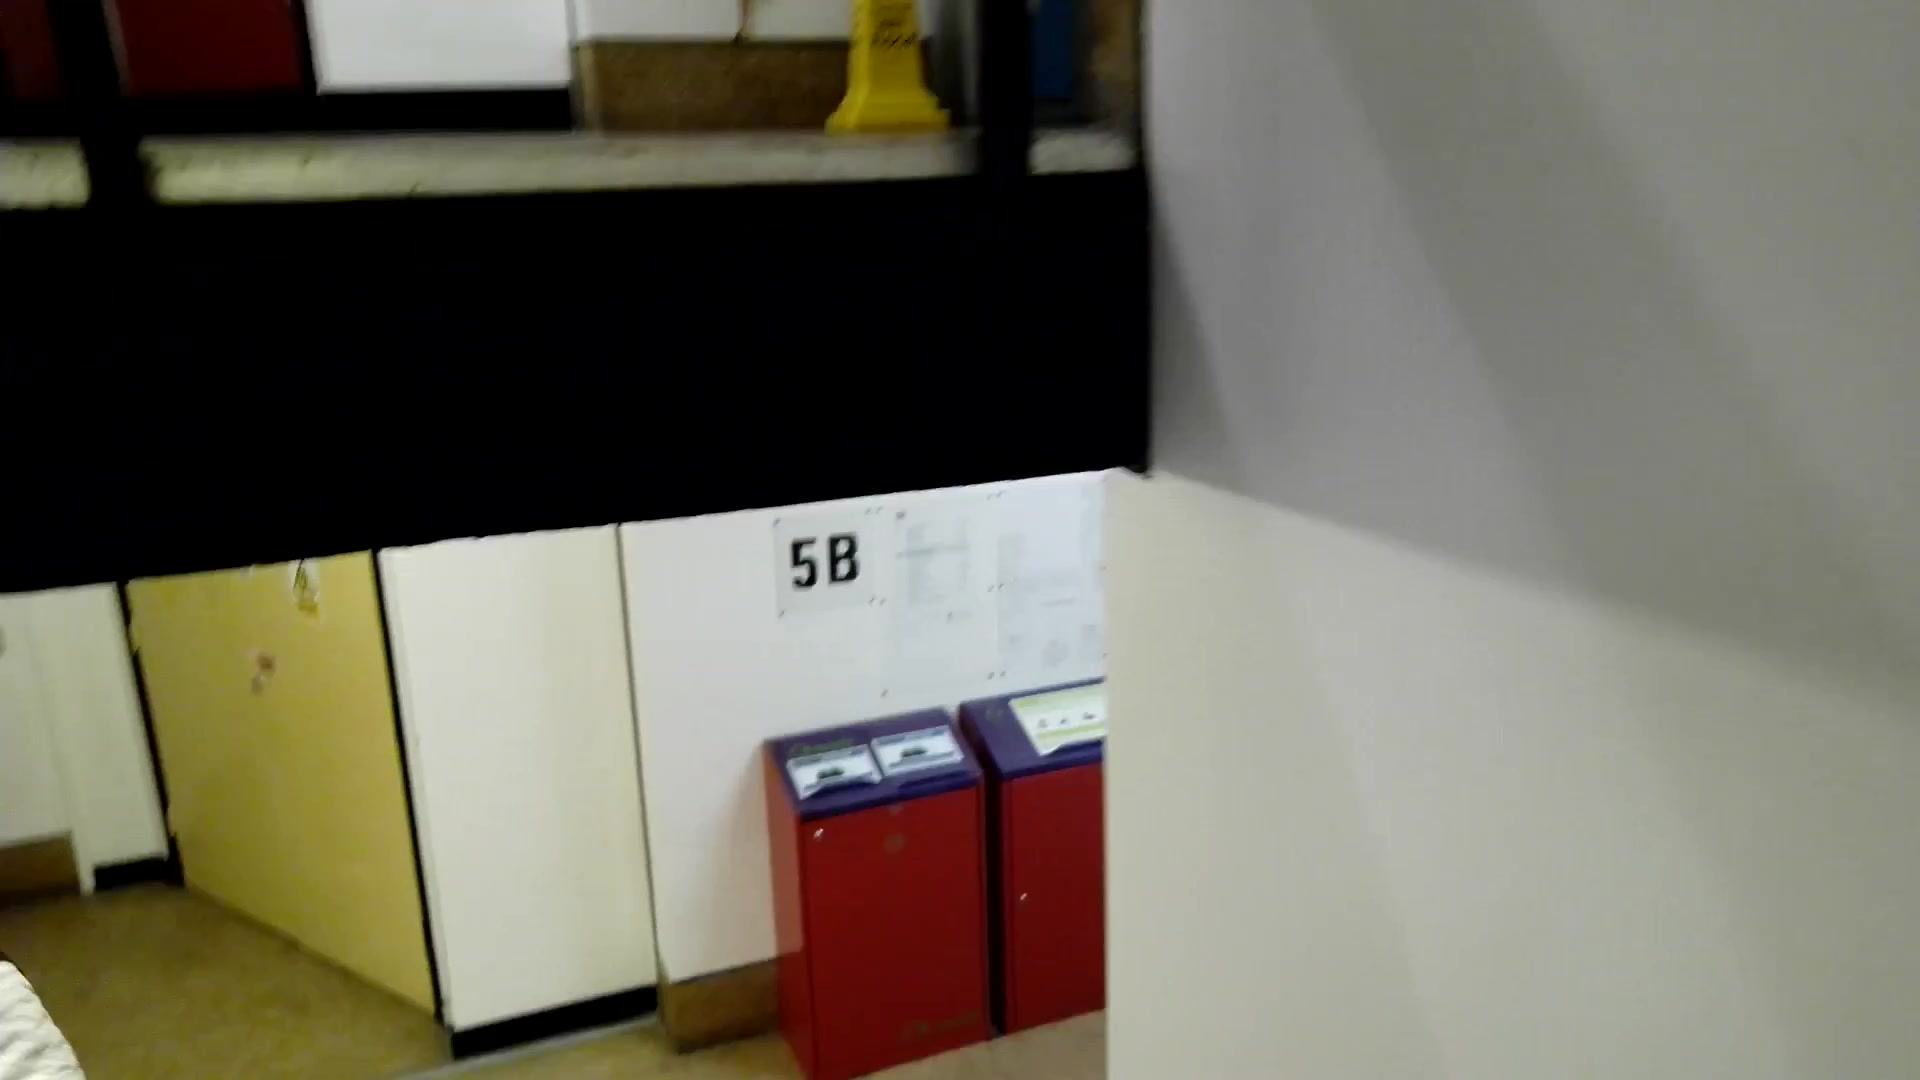Bin: (749, 711, 1011, 1062)
